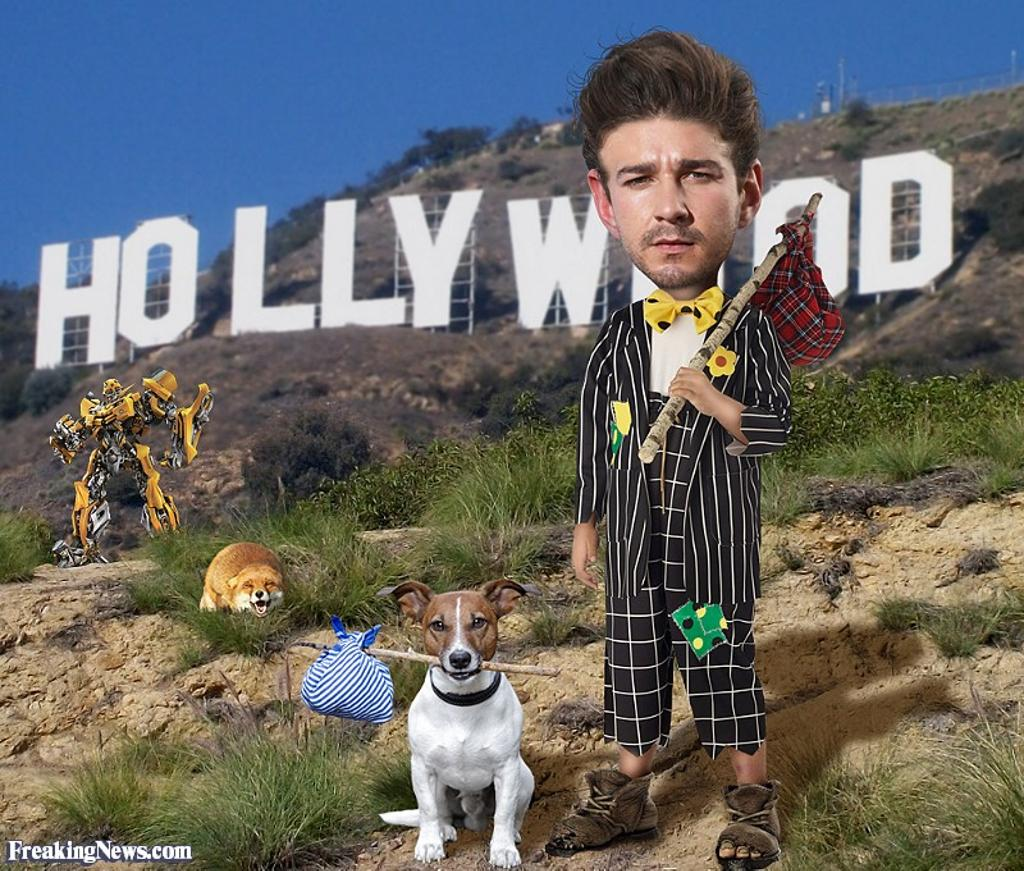face: (616, 118, 732, 280)
